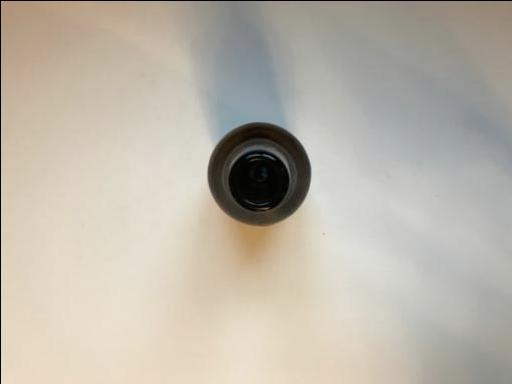glass: (205, 119, 310, 225)
sodocalcique: (205, 119, 310, 225)
